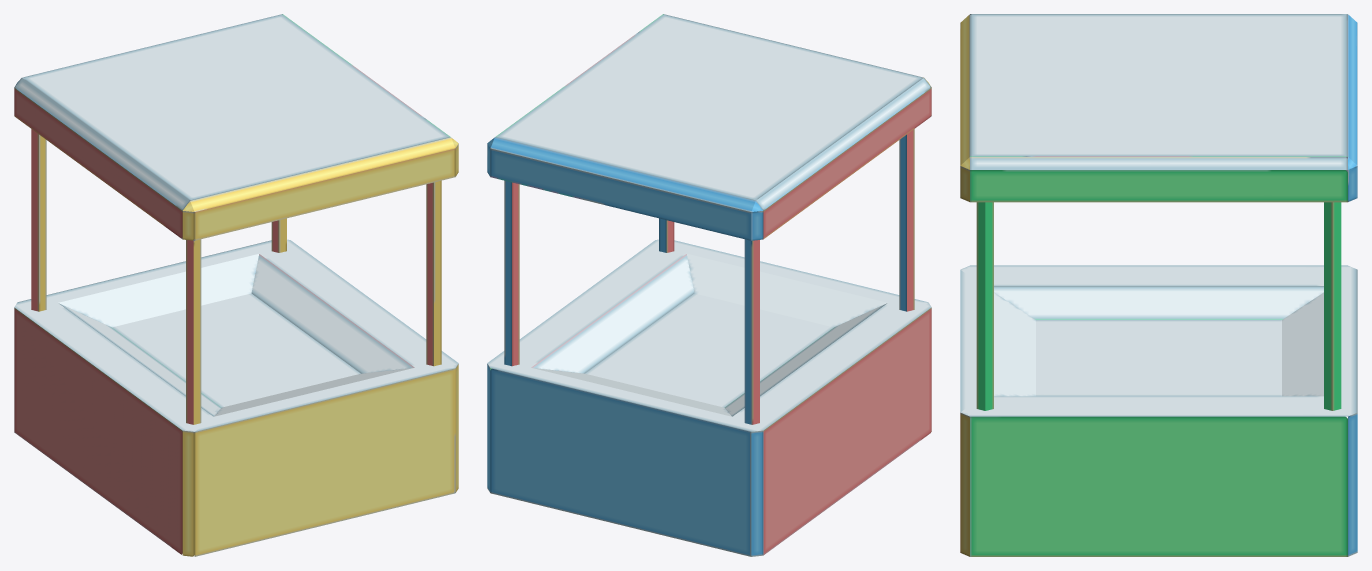
Rendered from Conveyer_box.fbx.
3 views of the same model, side by side, from view 1: azimuth 30°, elevation 25°; view 2: azimuth 150°, elevation 25°; view 3: azimuth 270°, elevation 25° (orthographic). The views are drawn at different scales.
Parts seen in each view (by area): view 1: conveyer_bottom, conveyer_top; view 2: conveyer_bottom, conveyer_top; view 3: conveyer_bottom, conveyer_top.
Boxes of the visible parts, x1,y1,x2,y2 form: conveyer_bottom: (14,239,458,556); conveyer_top: (14,14,458,424); conveyer_bottom: (487,239,931,556); conveyer_top: (487,14,931,424); conveyer_bottom: (960,265,1357,556); conveyer_top: (960,14,1357,410).
Size of the model in its own units: 457 by 558 by 508.
Materials: 1 (1 with a texture image).
